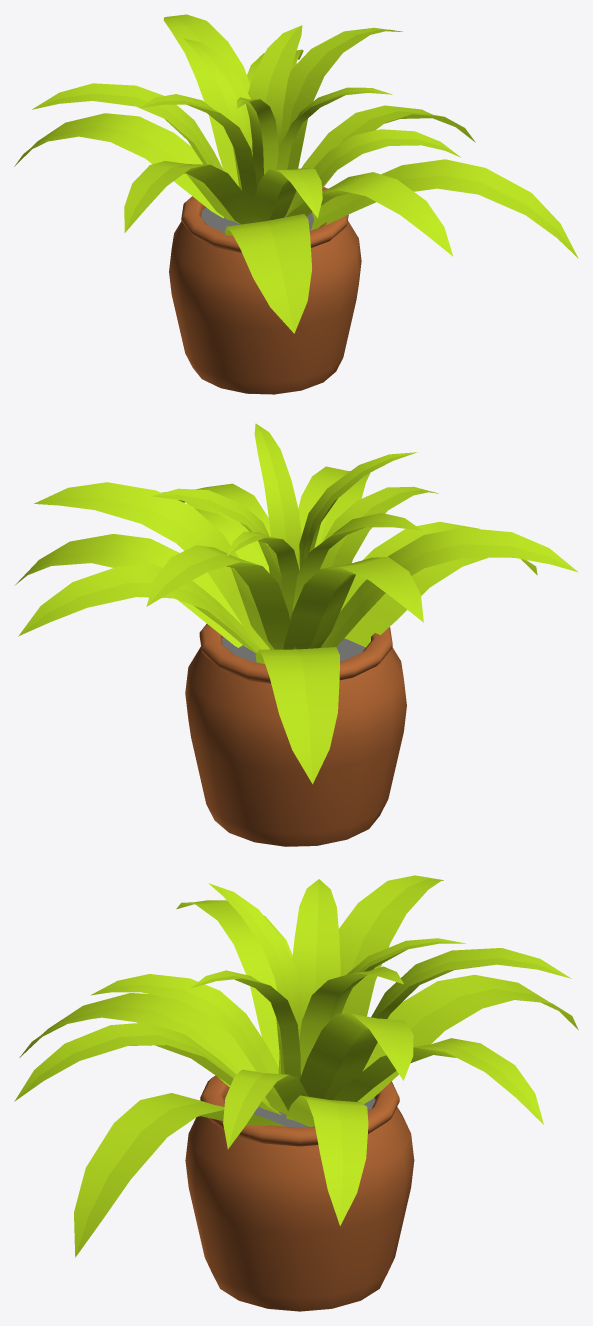
The model's file is Plant.fbx.
The picture shows the model from 3 angles, top to bottom: view 1: azimuth 30°, elevation 25°; view 2: azimuth 150°, elevation 25°; view 3: azimuth 270°, elevation 25°; orthographic projection. The views are drawn at different scales.
Visible parts, largest first — view 1: Plant; view 2: Plant; view 3: Plant.
Boxes of the visible parts, x1,y1,x2,y2 form: Plant: [14, 14, 578, 394]; Plant: [14, 423, 578, 846]; Plant: [14, 875, 578, 1311].
Size of the model in its own units: 0.7923 by 0.5421 by 0.7815.
